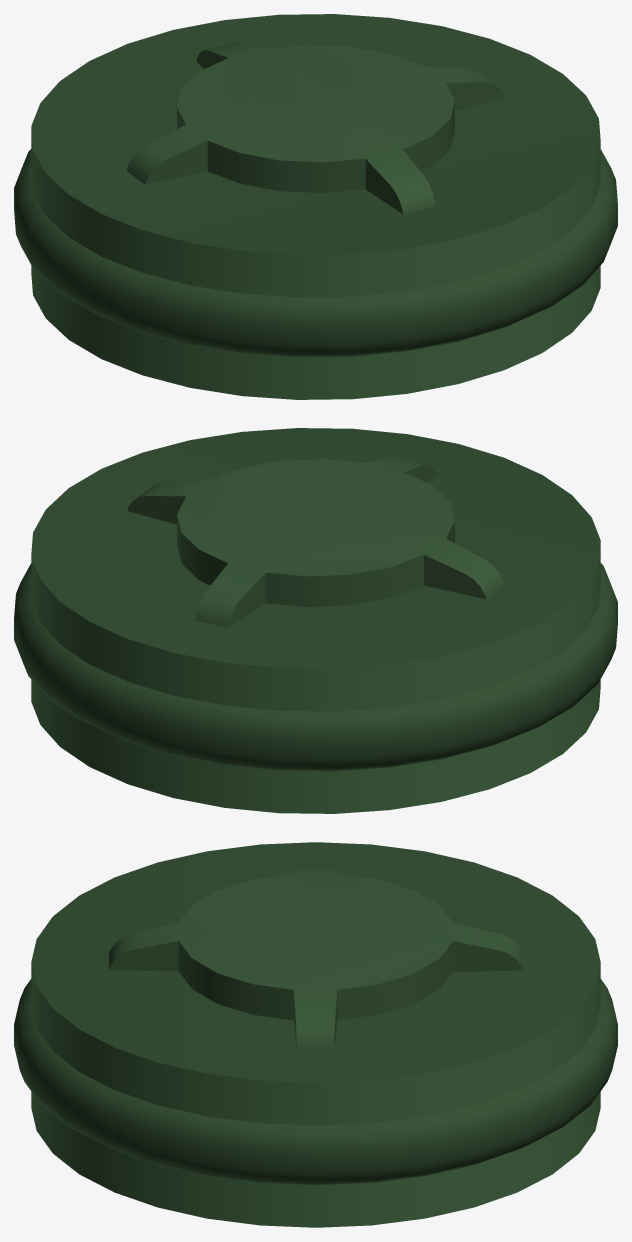
Rendered from Mine.fbx.
3 renders of one model, top to bottom at view 1: azimuth 30°, elevation 25°; view 2: azimuth 150°, elevation 25°; view 3: azimuth 270°, elevation 25°, orthographic.
Visible parts, largest first — view 1: Mine; view 2: Mine; view 3: Mine.
Part boxes in pixels (left/top/right/bottom): Mine: left=14, top=14, right=617, bottom=399; Mine: left=14, top=428, right=617, bottom=813; Mine: left=14, top=842, right=617, bottom=1227.
Bounding box in the file's own units: 0.7886 × 0.2528 × 0.7886.
